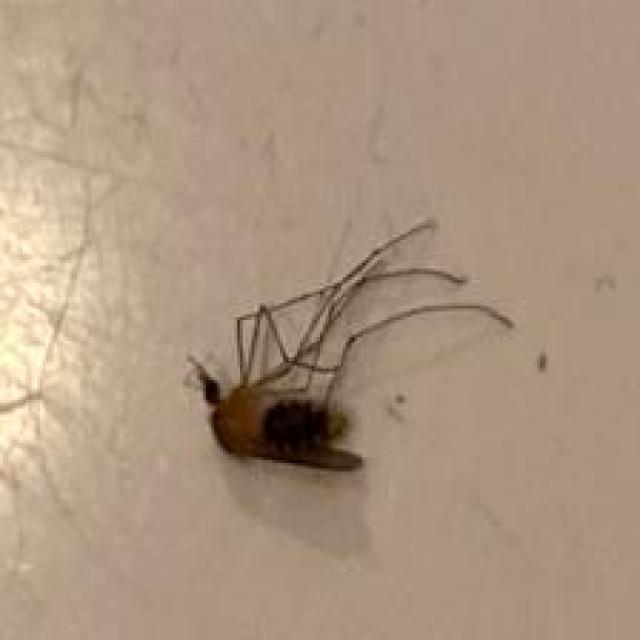Culex: (183, 216, 517, 473)
